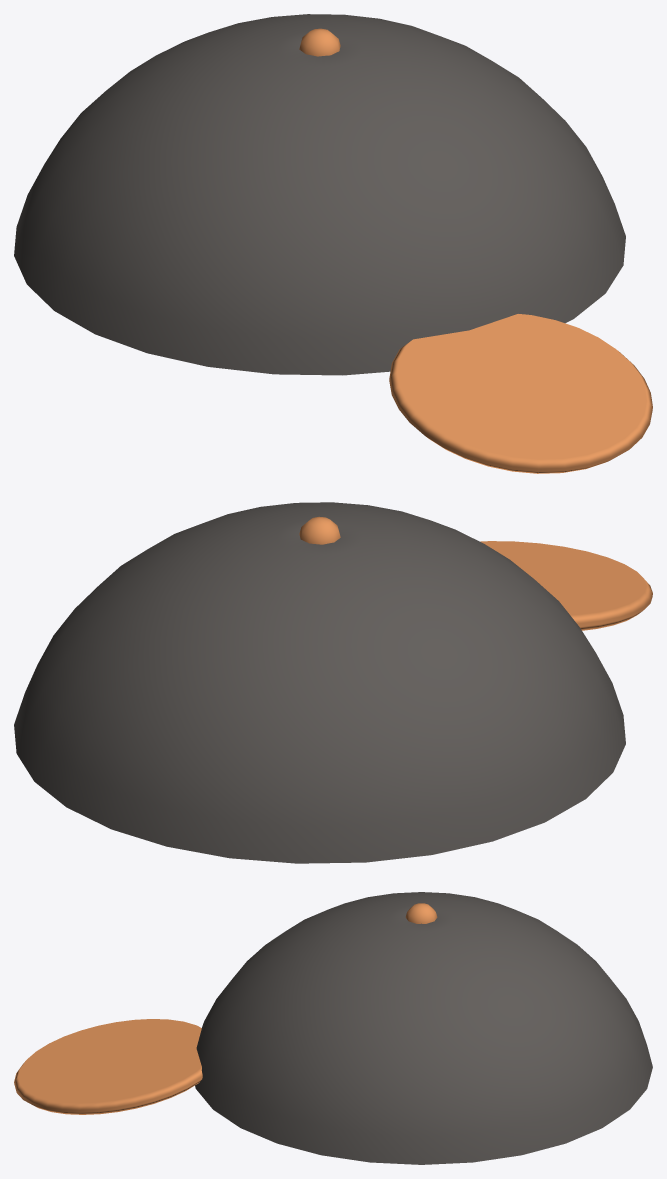
The model's file is baseball_cap.glb.
3 views of the same model, one above another, from view 1: azimuth 30°, elevation 25°; view 2: azimuth 150°, elevation 25°; view 3: azimuth 270°, elevation 25° (orthographic). The views are drawn at different scales.
Parts seen in each view (by area): view 1: baseball_cap_Head; view 2: baseball_cap_Head; view 3: baseball_cap_Head.
Part boxes in pixels (x1=…): baseball_cap_Head: x1=14, y1=14, x2=652, y2=473; baseball_cap_Head: x1=14, y1=502, x2=652, y2=863; baseball_cap_Head: x1=14, y1=892, x2=652, y2=1164.
Bounding box in the file's own units: 0.6966 × 0.3057 × 0.9615.
